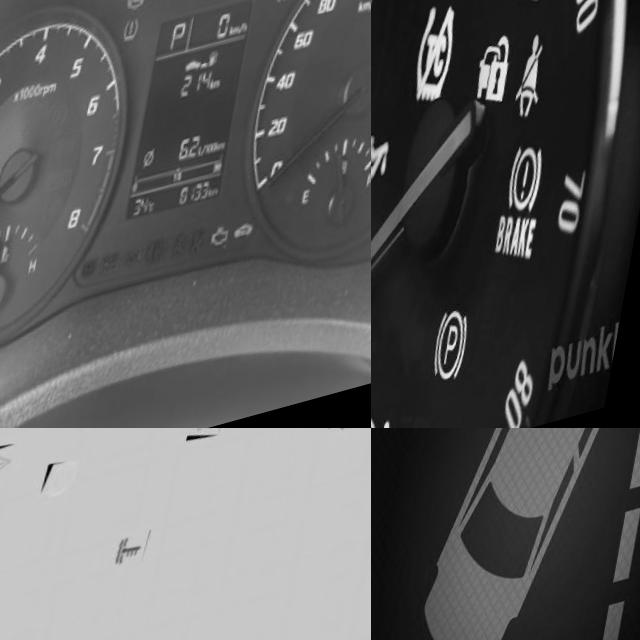Electronic Power Steering: (92, 267, 117, 301)
Seat Belt: (523, 60, 559, 146)
